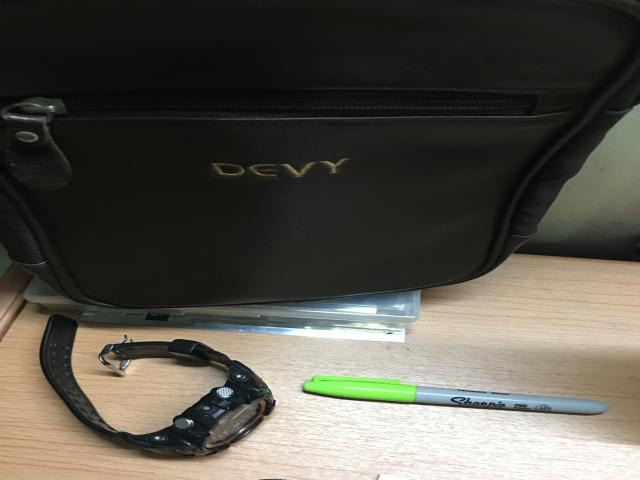Pen: (303, 376, 607, 414)
Watch: (40, 315, 275, 456)
